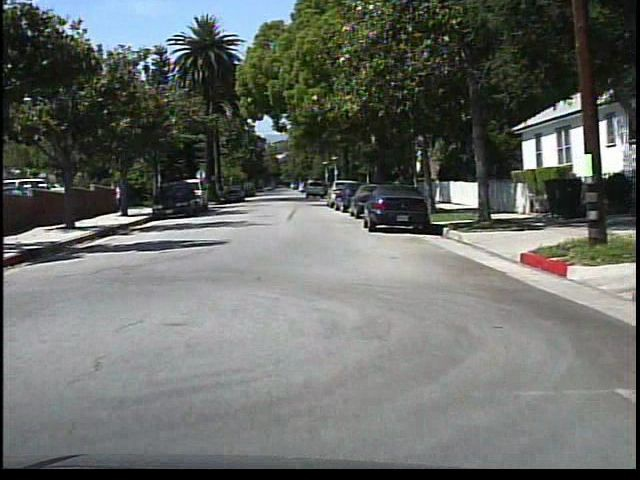person: (111, 178, 129, 217)
